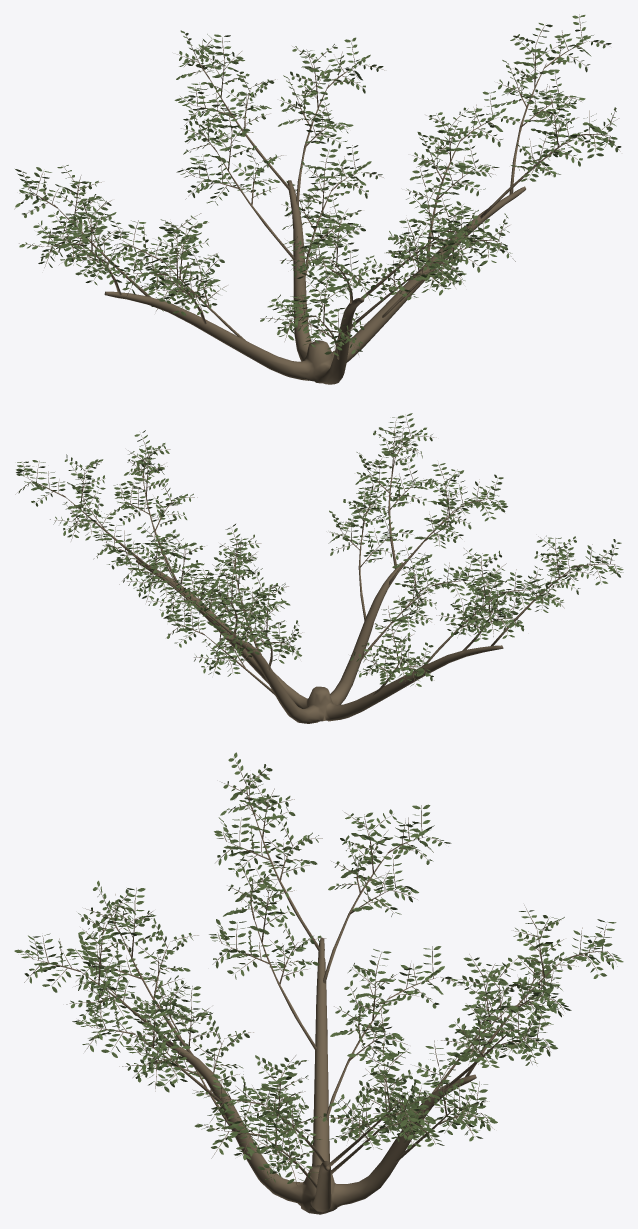
Rendered from Lentisque_2_Niveau0.fbx.
The picture shows the model from 3 angles, top to bottom: view 1: azimuth 30°, elevation 25°; view 2: azimuth 150°, elevation 25°; view 3: azimuth 270°, elevation 25°; orthographic projection. The views are drawn at different scales.
Visible parts, largest first — view 1: Lentisque_2_Niveau0_Jeu; view 2: Lentisque_2_Niveau0_Jeu; view 3: Lentisque_2_Niveau0_Jeu.
Part boxes in pixels (box(x1,y1,x2,y2)): Lentisque_2_Niveau0_Jeu: box(14, 14, 621, 384); Lentisque_2_Niveau0_Jeu: box(15, 413, 623, 723); Lentisque_2_Niveau0_Jeu: box(14, 752, 623, 1214).
Bounding box in the file's own units: 307 × 122 × 223.
